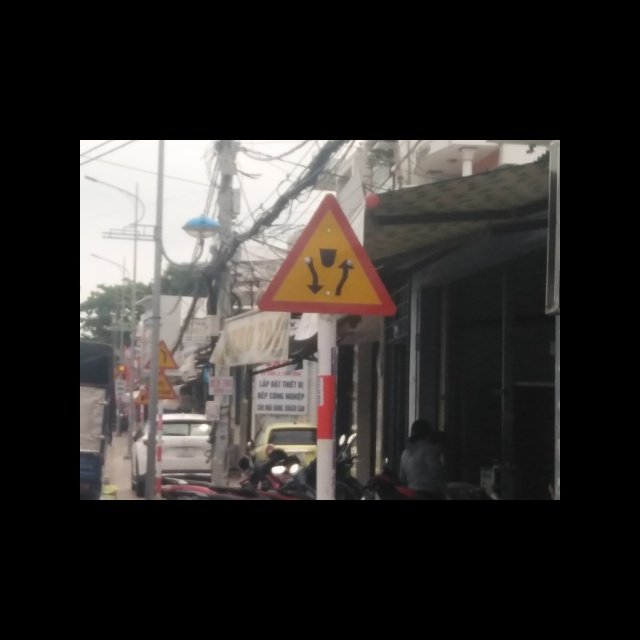Đường đôi: (255, 195, 397, 320)
